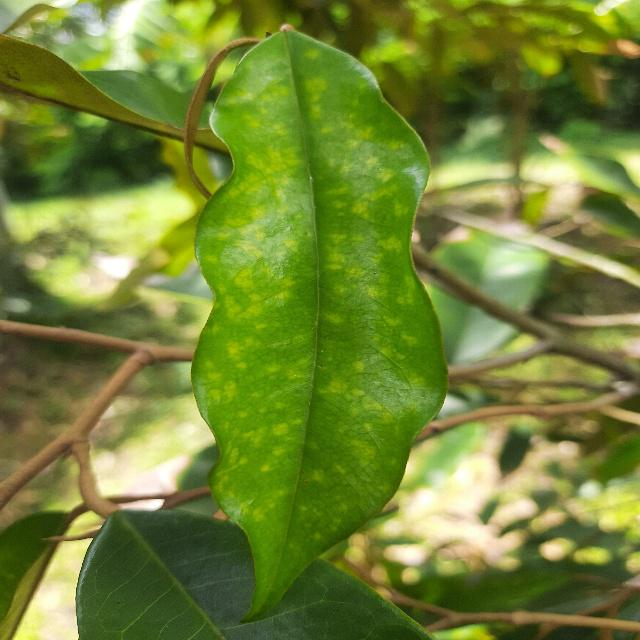Leaf Spot: (181, 19, 453, 633)
